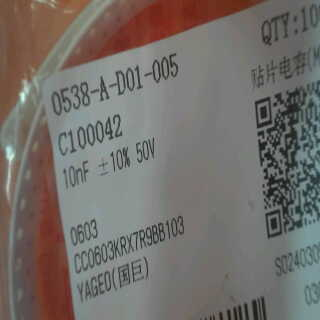10nF: (59, 158, 93, 193)
